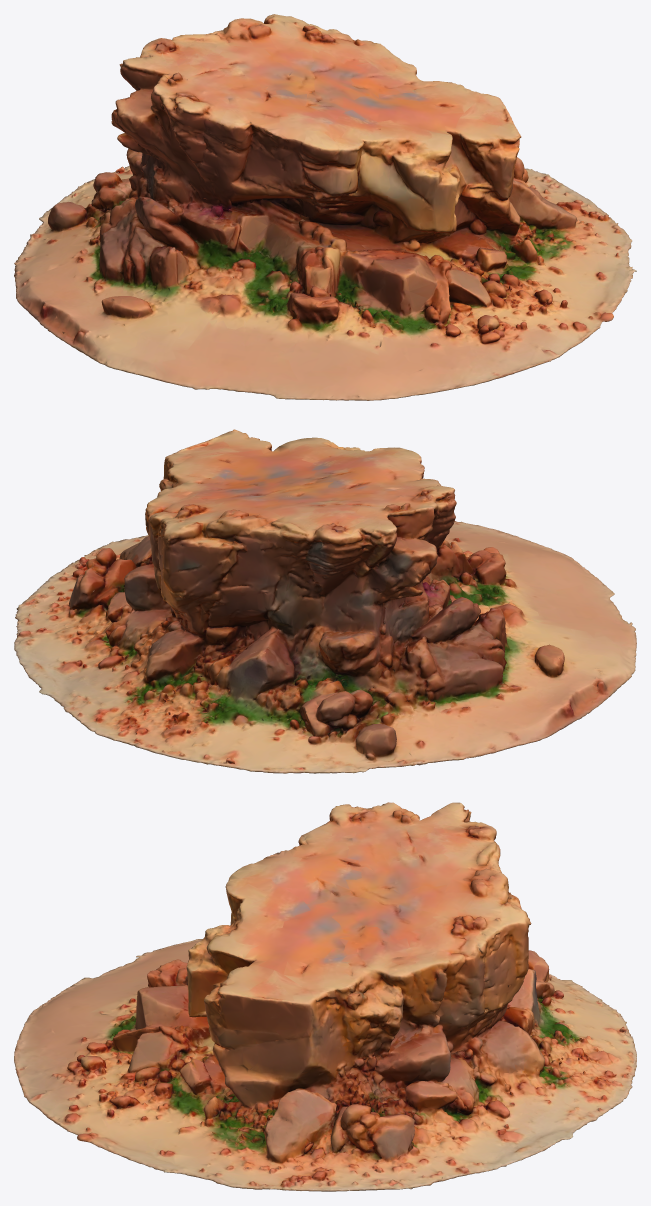
Rendered from Desert_Monolith.glb.
3 renders of one model, top to bottom at view 1: azimuth 30°, elevation 25°; view 2: azimuth 150°, elevation 25°; view 3: azimuth 270°, elevation 25°, orthographic.
Visible parts, largest first — view 1: Desert_Monolith; view 2: Desert_Monolith; view 3: Desert_Monolith.
Boxes of the visible parts, <box> form: Desert_Monolith: <box>14,14,636,400</box>; Desert_Monolith: <box>14,429,636,773</box>; Desert_Monolith: <box>14,802,636,1191</box>.
Size of the model in its own units: 1.9 by 0.6513 by 1.9.
1 material, 1 textured.
